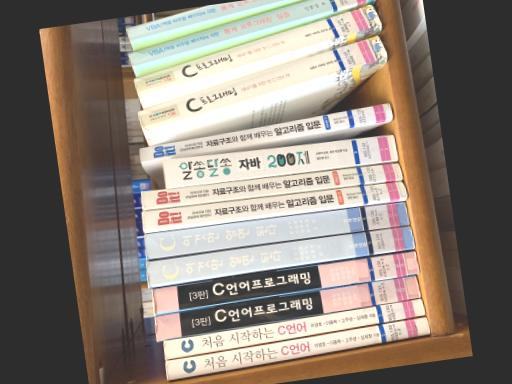book-spine: (138, 34, 386, 128), (134, 3, 382, 95), (154, 274, 420, 339), (151, 250, 419, 313), (165, 316, 430, 379), (146, 225, 415, 286), (163, 298, 425, 358), (128, 0, 366, 64), (144, 201, 410, 257), (139, 102, 392, 160), (141, 180, 407, 229), (163, 133, 398, 185), (141, 162, 403, 208), (126, 0, 277, 39)
